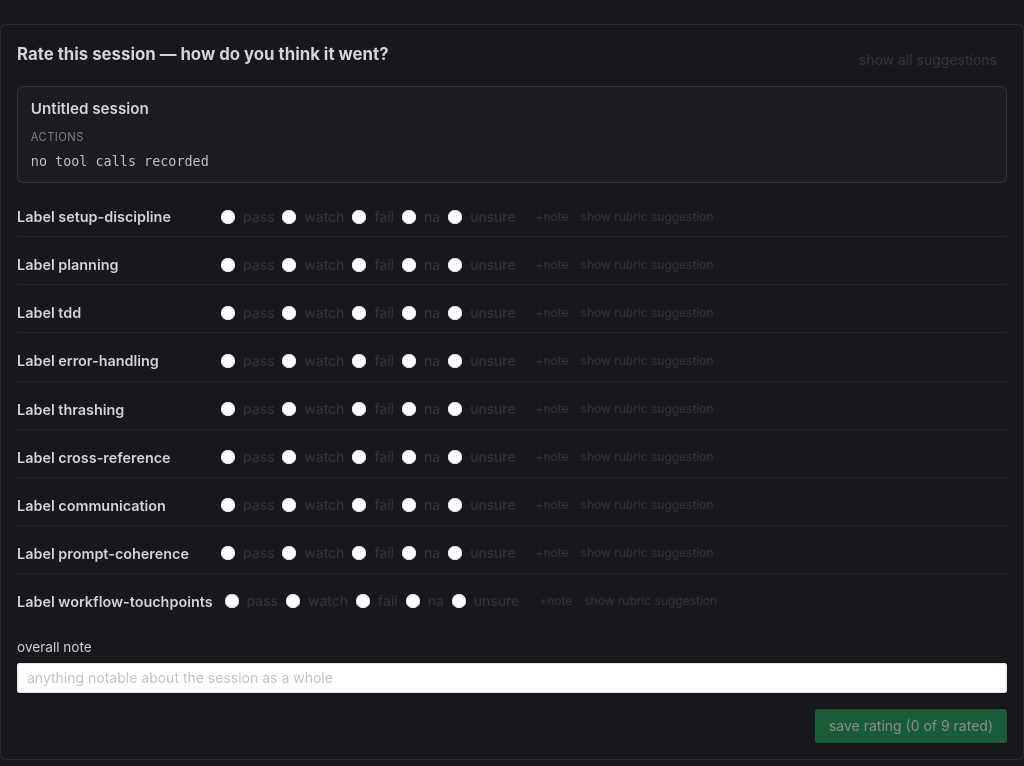
Scenario: RatingSurvey — anchoring toggles › the bulk toggle hides all suggestions when they are already shown
Step 1. Click the button with test id "survey-show-all" → (928, 60), box [849, 46, 1007, 74]
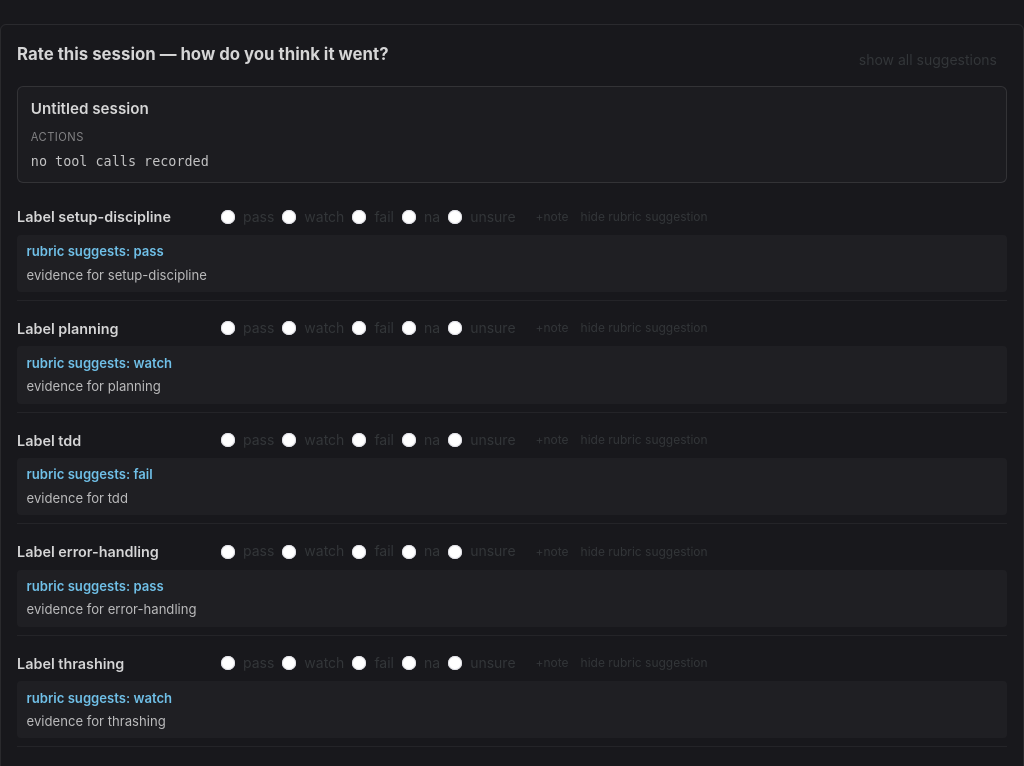
Check: the number of elements with class "suggestion" is 9
Step 2. Click the button with test id "survey-show-all" → (928, 60), box [849, 46, 1007, 74]
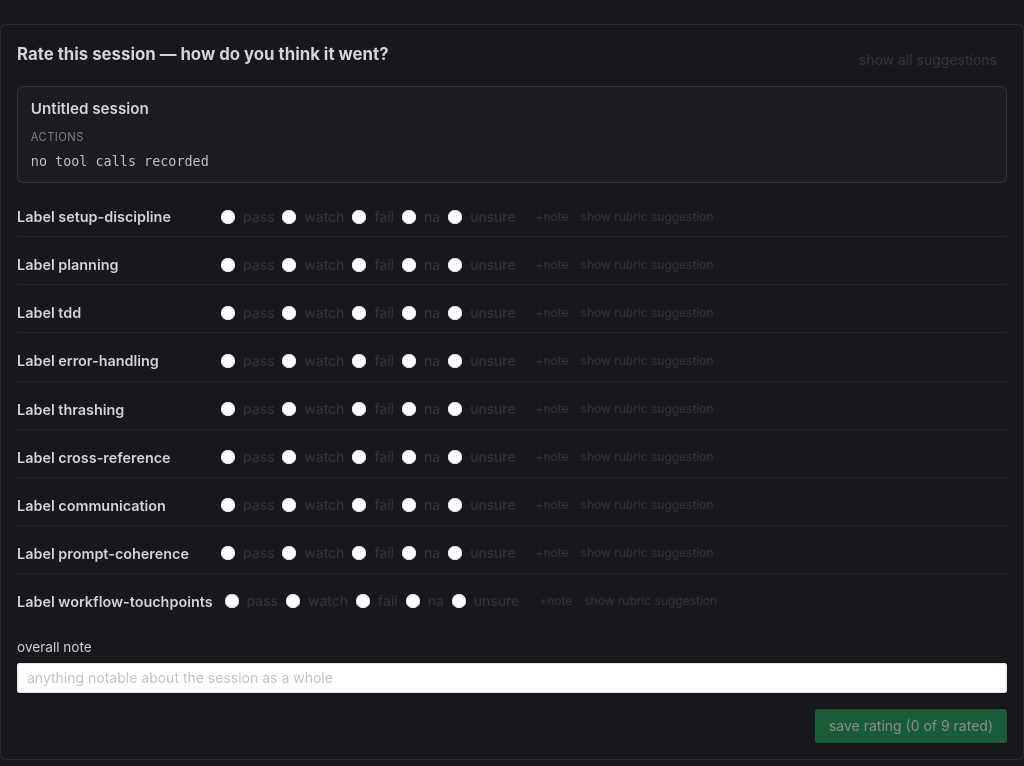
Check: no elements with class "suggestion" are shown
